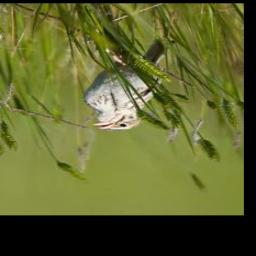Sparrow: (81, 40, 174, 132)
